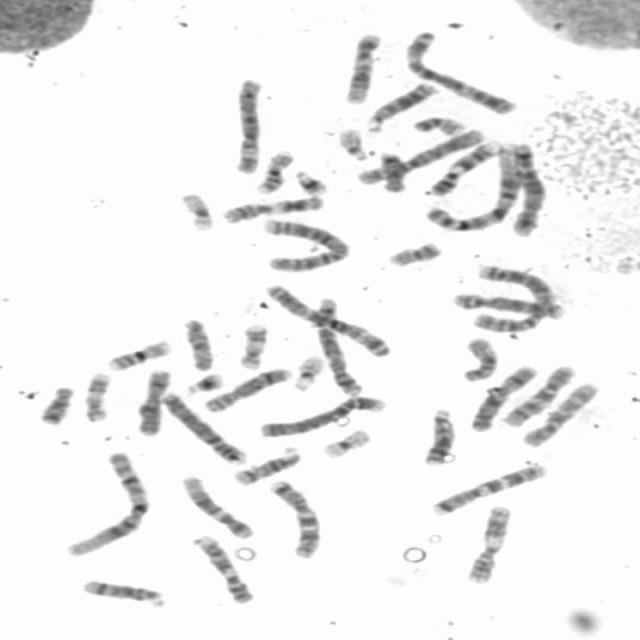A1: (419, 137, 530, 234), (57, 446, 153, 558)
A2: (463, 259, 558, 334), (256, 214, 351, 273)
A3: (258, 278, 394, 358), (398, 26, 520, 115)
B4: (156, 388, 248, 466), (255, 391, 390, 439)
B5: (310, 293, 366, 397), (503, 140, 549, 238)
C10: (514, 378, 600, 448), (497, 360, 579, 428)
C11: (461, 500, 515, 585), (216, 190, 328, 224)
C12: (177, 470, 258, 540), (338, 28, 383, 105)
C6: (351, 125, 488, 186), (226, 73, 266, 175)
C7: (425, 458, 552, 517), (262, 474, 324, 560)
C8: (200, 363, 296, 413), (446, 288, 568, 319)
C9: (187, 530, 257, 605), (422, 135, 502, 198)
D13: (360, 78, 440, 134), (418, 404, 457, 466)
D14: (227, 442, 302, 486), (76, 574, 170, 609)
D15: (456, 333, 502, 383), (178, 314, 217, 372)
E16: (102, 335, 174, 372), (250, 147, 296, 196)
E17: (79, 367, 113, 424), (233, 320, 270, 370)
E18: (34, 381, 78, 426), (374, 147, 409, 194)
F19: (317, 425, 373, 459), (175, 188, 218, 232)
F20: (382, 238, 445, 268), (407, 111, 468, 136)
G21: (179, 368, 226, 396), (289, 166, 332, 196)
G22: (288, 350, 327, 392), (333, 124, 374, 162)
X: (465, 361, 542, 434), (132, 365, 174, 437)
